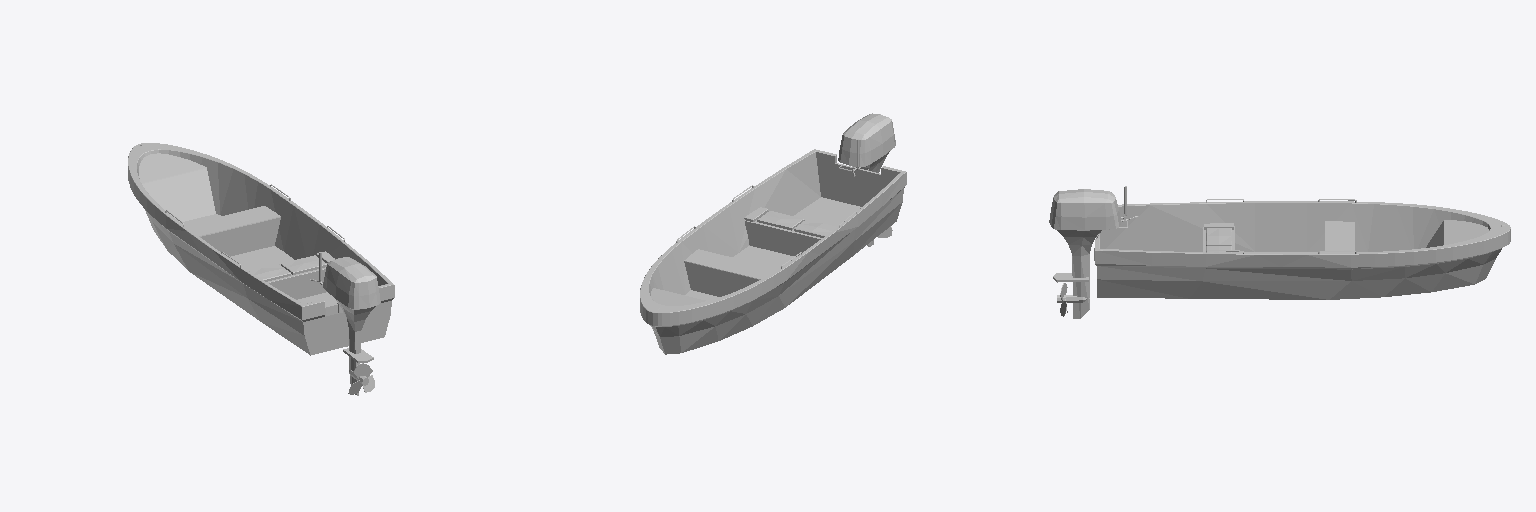
File: boat.obj
3 views of the same model, side by side, from view 1: azimuth 30°, elevation 25°; view 2: azimuth 150°, elevation 25°; view 3: azimuth 270°, elevation 25° (orthographic).
Visible parts, largest first — view 1: boat; view 2: boat; view 3: boat.
Boxes of the visible parts, box(x1,y1,x2,y2) form: boat: box(128, 143, 394, 395); boat: box(640, 113, 906, 354); boat: box(1049, 186, 1510, 318).
Bounding box in the file's own units: 74.4 × 81.97 × 270.